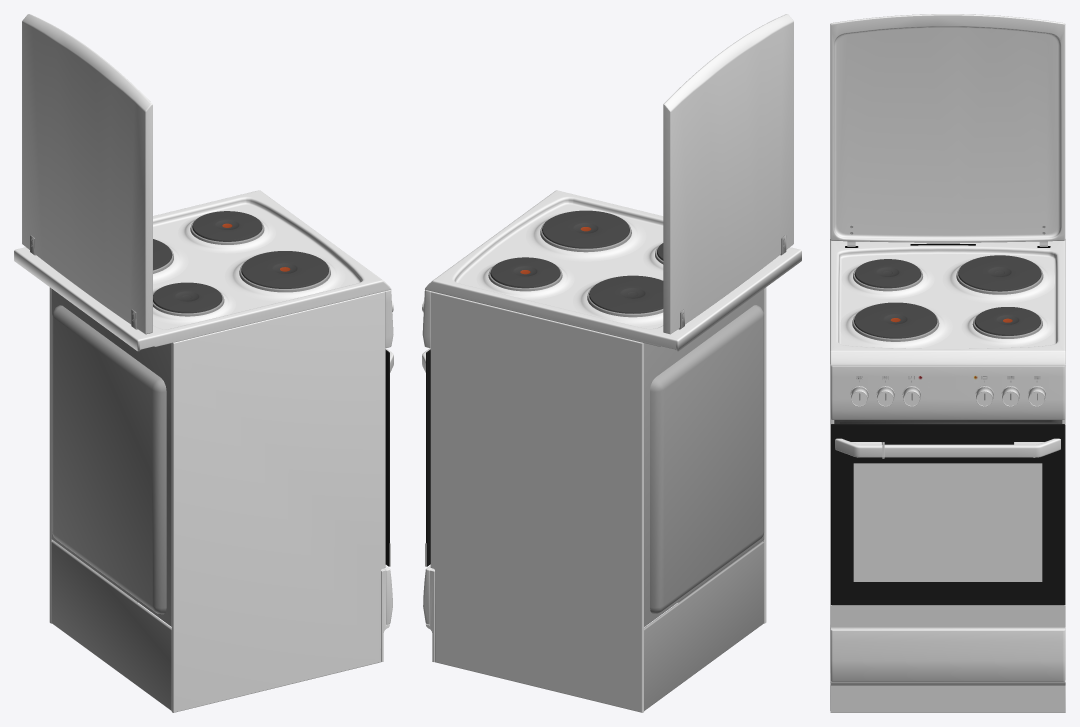
Rendered from Hansa Integra FCEW 54120.FBX.
3 views of the same model, side by side, from view 1: azimuth 30°, elevation 25°; view 2: azimuth 150°, elevation 25°; view 3: azimuth 270°, elevation 25° (orthographic). The views are drawn at different scales.
Parts seen in each view (by area): view 1: Line053, ChamferBox015, Box039, Box019, Cone001, Cone009, Cone003, Line055, Object007; view 2: Line055, ChamferBox015, Box039, Box019, Cone010, Cone001, Cone003, Line053, Object007; view 3: Box039, Object007, Box019, Box026, Box025, Line054, Box028, Box037, Cone010, Cone001, Cylinder028, Cone009 (+3 smaller).
Boxes of the visible parts, x1=… form: Line053: x1=171, y1=291, x2=385, y2=712; ChamferBox015: x1=51, y1=289, x2=171, y2=710; Box039: x1=22, y1=14, x2=152, y2=334; Box019: x1=14, y1=190, x2=391, y2=351; Cone001: x1=241, y1=251, x2=328, y2=288; Cone009: x1=153, y1=282, x2=222, y2=313; Cone003: x1=192, y1=211, x2=262, y2=241; Line055: x1=49, y1=287, x2=137, y2=623; Object007: x1=385, y1=349, x2=389, y2=566; Line055: x1=430, y1=291, x2=643, y2=712; ChamferBox015: x1=644, y1=289, x2=764, y2=710; Box039: x1=663, y1=14, x2=793, y2=334; Box019: x1=425, y1=190, x2=801, y2=351; Cone010: x1=587, y1=275, x2=663, y2=317; Cone001: x1=542, y1=210, x2=629, y2=248; Cone003: x1=490, y1=257, x2=560, y2=288; Line053: x1=678, y1=287, x2=766, y2=623; Object007: x1=426, y1=349, x2=430, y2=566; Box039: x1=830, y1=14, x2=1065, y2=242; Object007: x1=831, y1=422, x2=1065, y2=605; Box019: x1=830, y1=238, x2=1065, y2=365; Box026: x1=830, y1=628, x2=1065, y2=681; Box025: x1=830, y1=365, x2=1065, y2=419; Line054: x1=830, y1=627, x2=1065, y2=712; Box028: x1=830, y1=605, x2=1065, y2=627; Box037: x1=835, y1=438, x2=1060, y2=457; Cone010: x1=956, y1=255, x2=1043, y2=294; Cone001: x1=854, y1=302, x2=937, y2=338; Cylinder028: x1=850, y1=386, x2=1045, y2=406; Cone009: x1=854, y1=259, x2=921, y2=288.
Size of the model in its own units: 63.31 by 139 by 50.21.
